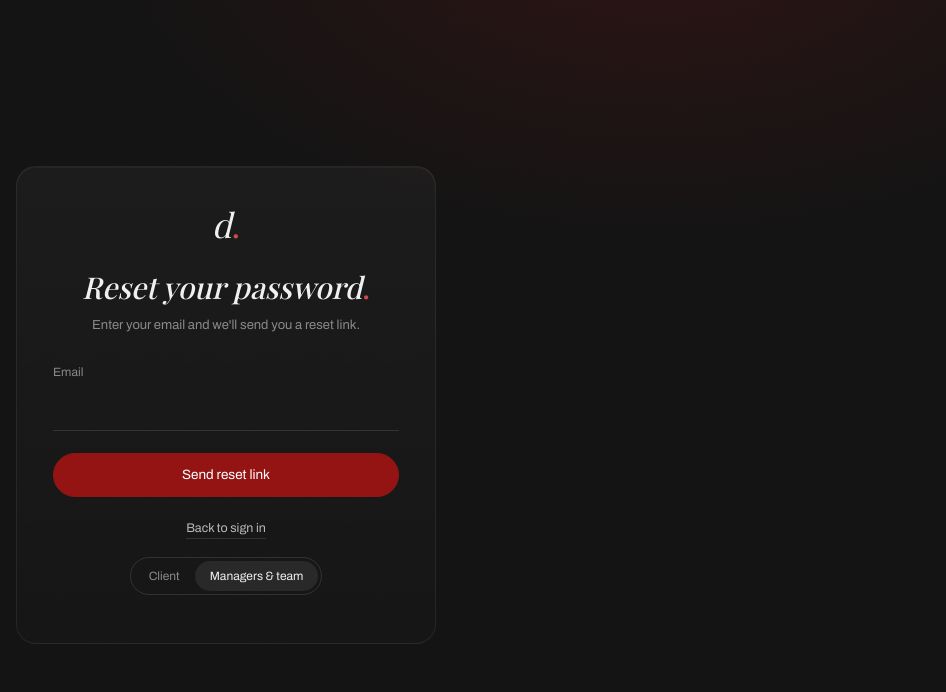
Scenario: ForgotPasswordPage › shows a server error message and stays on the form (never claims success)
The image size is (946, 692).
Type "a@a.com" into the field labelled "Email" at (226, 410), box [53,389,399,431]
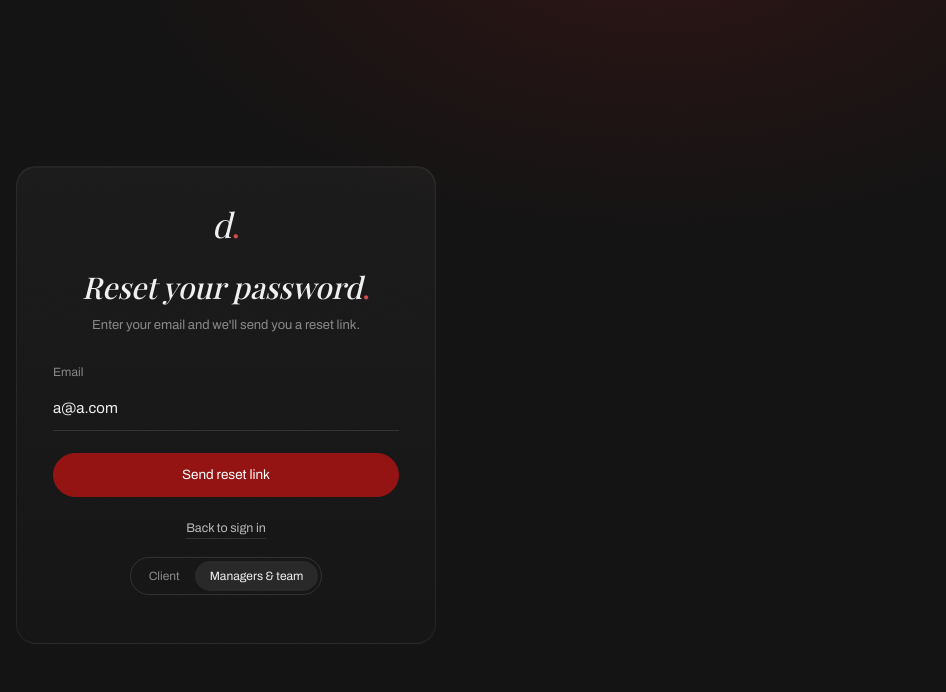
Click the button "Send reset link" at (226, 475), box [53,453,399,497]
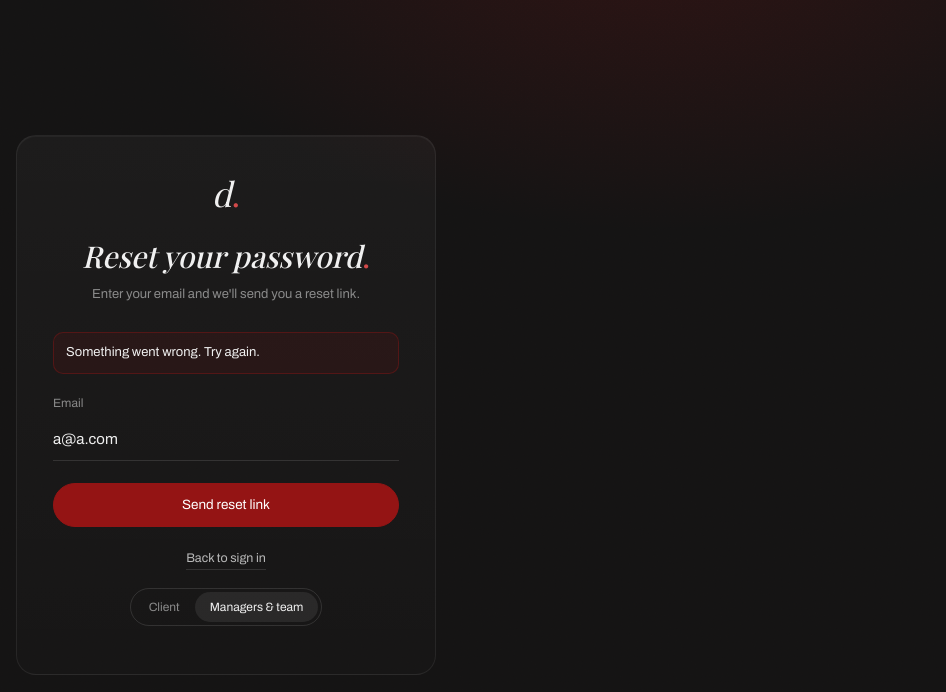
Now the text "Something went wrong. Try again." is shown, box [53,332,399,374]
